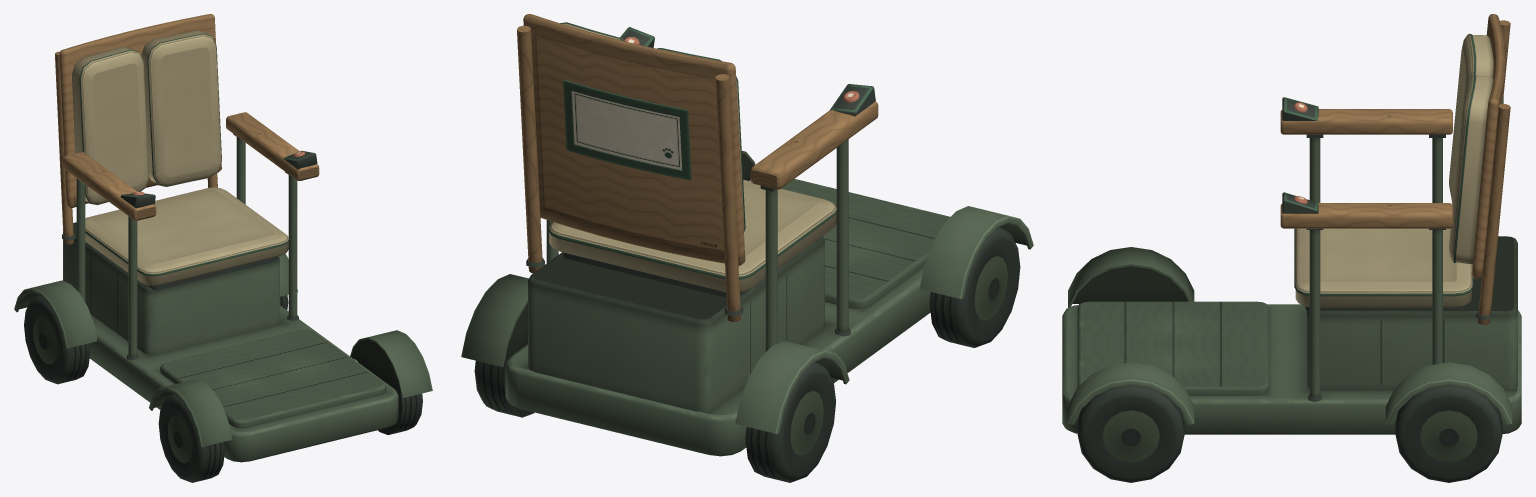
The model's file is KH_OsanpoCart.fbx.
3 views of the same model, side by side, from view 1: azimuth 30°, elevation 25°; view 2: azimuth 150°, elevation 25°; view 3: azimuth 270°, elevation 25° (orthographic). The views are drawn at different scales.
Visible parts, largest first — view 1: KH_OsanpoCart_Body, KH_OsanpoCart_AxleFront, KH_OsanpoCart_AxleRear; view 2: KH_OsanpoCart_Body, KH_OsanpoCart_AxleRear, KH_OsanpoCart_AxleFront; view 3: KH_OsanpoCart_Body, KH_OsanpoCart_AxleFront, KH_OsanpoCart_AxleRear.
Part boxes in pixels (x1,y1,x2,y2): KH_OsanpoCart_Body: (14,14,432,462); KH_OsanpoCart_AxleFront: (158,362,422,482); KH_OsanpoCart_AxleRear: (24,295,288,384); KH_OsanpoCart_Body: (461,14,1033,456); KH_OsanpoCart_AxleRear: (474,343,835,482); KH_OsanpoCart_AxleFront: (929,227,1020,347); KH_OsanpoCart_Body: (1062,14,1521,434); KH_OsanpoCart_AxleFront: (1077,304,1184,482); KH_OsanpoCart_AxleRear: (1395,385,1502,482).
Size of what is drawn, in the model's own units: 82 by 105 by 120.
2 materials, 2 textured.
